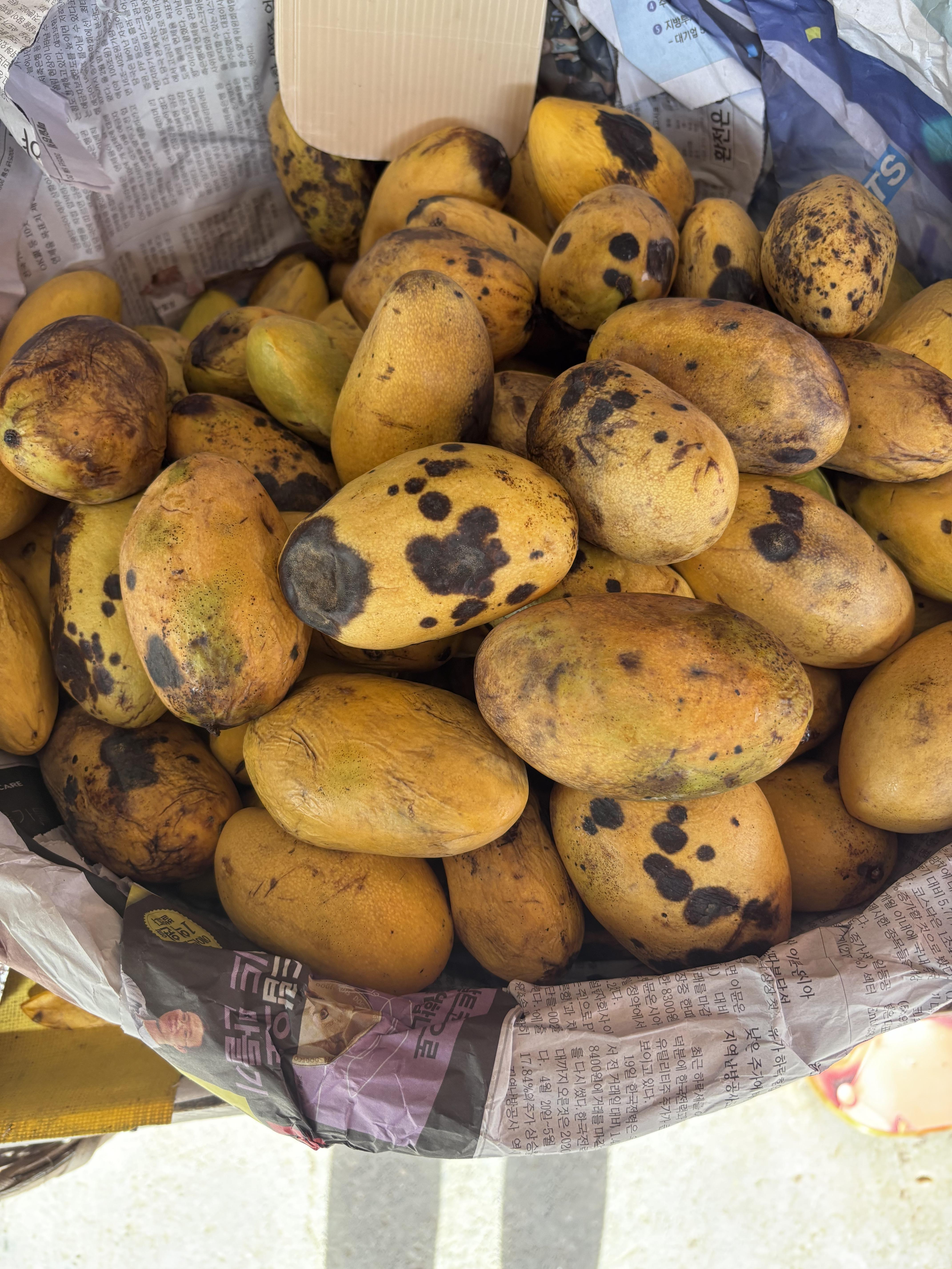mango: (474, 593, 811, 801), (279, 442, 577, 650), (0, 315, 167, 504), (761, 174, 897, 337)
occluded: (120, 453, 310, 733), (244, 672, 528, 857), (588, 297, 849, 478), (677, 475, 914, 669), (550, 784, 791, 973), (215, 808, 453, 994), (525, 359, 738, 566), (39, 707, 242, 884), (331, 270, 493, 483), (50, 494, 166, 728), (444, 793, 584, 983), (343, 228, 536, 361), (838, 623, 952, 834), (759, 755, 897, 912), (527, 96, 694, 224), (166, 393, 339, 513), (540, 185, 678, 334), (359, 126, 511, 254), (820, 338, 952, 483), (267, 94, 373, 259), (838, 471, 952, 602), (246, 315, 350, 449), (0, 269, 122, 372), (405, 195, 547, 283), (524, 540, 694, 607), (0, 560, 58, 755), (0, 561, 58, 755), (671, 198, 766, 307), (184, 306, 278, 405), (0, 501, 65, 627), (876, 279, 952, 378), (486, 371, 552, 457), (247, 253, 330, 320), (133, 325, 189, 413), (791, 666, 844, 757), (864, 263, 922, 339), (178, 289, 240, 340), (316, 299, 363, 361), (210, 723, 251, 787)
